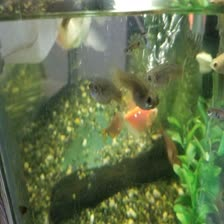Cuezo: (0, 16, 116, 62)
Guppy: (114, 68, 164, 108), (84, 72, 124, 104), (144, 56, 181, 85)
Plano: (125, 106, 163, 131)
